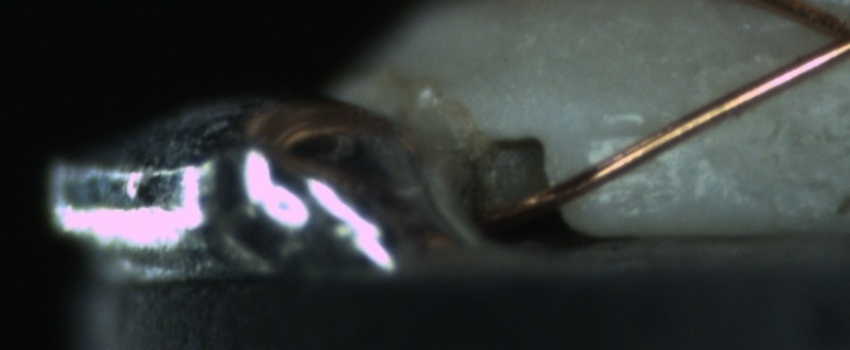CL: (802, 2, 850, 68)
DL: (579, 99, 678, 160)
